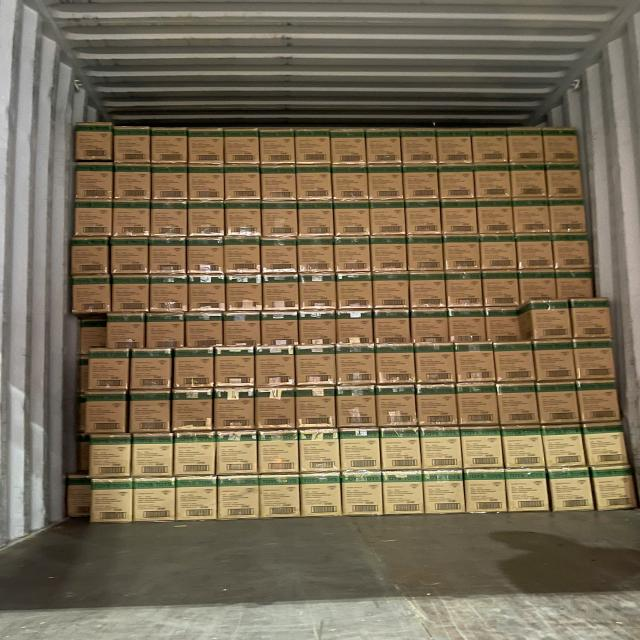Carton: (580, 422, 630, 469), (547, 467, 595, 513), (501, 424, 547, 471), (418, 425, 464, 472), (542, 423, 588, 470), (83, 390, 130, 435), (591, 466, 638, 511), (131, 434, 175, 482), (423, 469, 468, 515), (577, 380, 623, 425), (88, 434, 134, 479), (298, 429, 342, 476), (217, 430, 260, 478), (173, 476, 218, 521), (459, 425, 503, 471), (258, 430, 302, 476), (254, 386, 298, 432), (128, 389, 172, 435), (339, 427, 381, 475), (456, 383, 500, 428), (506, 468, 551, 512), (463, 468, 507, 513), (217, 476, 262, 520), (213, 387, 257, 432), (532, 338, 576, 383), (90, 478, 134, 523), (536, 382, 580, 427), (573, 338, 618, 382), (528, 298, 573, 342), (415, 384, 459, 429), (341, 470, 383, 517), (174, 432, 216, 479), (379, 427, 422, 472), (88, 347, 131, 392), (382, 470, 424, 516), (496, 382, 538, 428), (335, 384, 378, 428), (335, 342, 378, 386), (375, 384, 418, 428), (255, 344, 298, 388), (300, 472, 343, 516), (130, 348, 173, 392), (452, 341, 496, 384), (258, 474, 301, 518), (172, 388, 214, 433), (294, 344, 337, 387), (134, 478, 176, 522), (570, 299, 615, 340), (215, 345, 257, 388), (296, 386, 338, 429), (414, 341, 456, 384), (493, 341, 535, 384), (173, 347, 214, 391), (376, 342, 416, 386), (73, 160, 114, 202), (70, 236, 112, 277), (149, 273, 191, 314), (551, 232, 594, 272), (187, 273, 228, 314), (259, 235, 300, 276), (508, 161, 550, 201), (333, 235, 373, 277), (444, 269, 486, 309), (148, 236, 190, 276), (70, 274, 110, 316), (511, 196, 553, 236), (298, 271, 339, 311), (223, 199, 264, 239), (442, 234, 482, 275), (150, 198, 190, 239), (297, 200, 338, 240), (475, 197, 516, 237), (260, 199, 300, 240), (223, 311, 264, 351), (542, 127, 584, 166), (547, 197, 590, 235), (224, 273, 264, 313), (296, 236, 336, 276), (187, 199, 227, 239), (406, 234, 446, 274), (479, 233, 519, 273), (439, 198, 480, 237), (481, 269, 522, 308), (76, 121, 115, 162), (371, 271, 412, 310), (399, 127, 440, 166), (186, 236, 225, 277), (110, 235, 149, 276), (474, 162, 512, 204), (514, 232, 556, 270), (409, 270, 448, 310), (261, 273, 301, 312), (330, 128, 369, 168), (73, 198, 112, 238), (113, 162, 152, 202), (370, 235, 410, 274), (259, 163, 299, 202), (404, 198, 443, 238), (224, 235, 263, 275), (110, 274, 150, 313), (506, 125, 544, 166), (223, 164, 264, 202), (373, 308, 412, 347), (151, 128, 190, 167), (113, 124, 151, 164), (402, 163, 442, 201), (437, 163, 477, 201), (112, 198, 150, 238), (185, 311, 223, 351), (436, 126, 474, 166), (448, 307, 488, 345), (336, 271, 374, 310), (151, 164, 190, 202), (369, 199, 408, 237), (331, 164, 370, 202), (333, 200, 372, 238), (259, 128, 297, 167), (296, 164, 334, 202), (187, 163, 224, 202), (412, 308, 451, 345), (147, 311, 186, 348), (336, 309, 376, 345), (546, 166, 586, 202), (260, 310, 300, 346), (106, 312, 146, 348), (299, 310, 338, 346), (366, 127, 402, 166), (485, 306, 521, 345), (474, 126, 509, 166), (368, 164, 403, 204), (188, 129, 225, 166), (297, 128, 331, 167), (224, 129, 260, 165), (554, 268, 595, 299), (519, 268, 556, 301)
